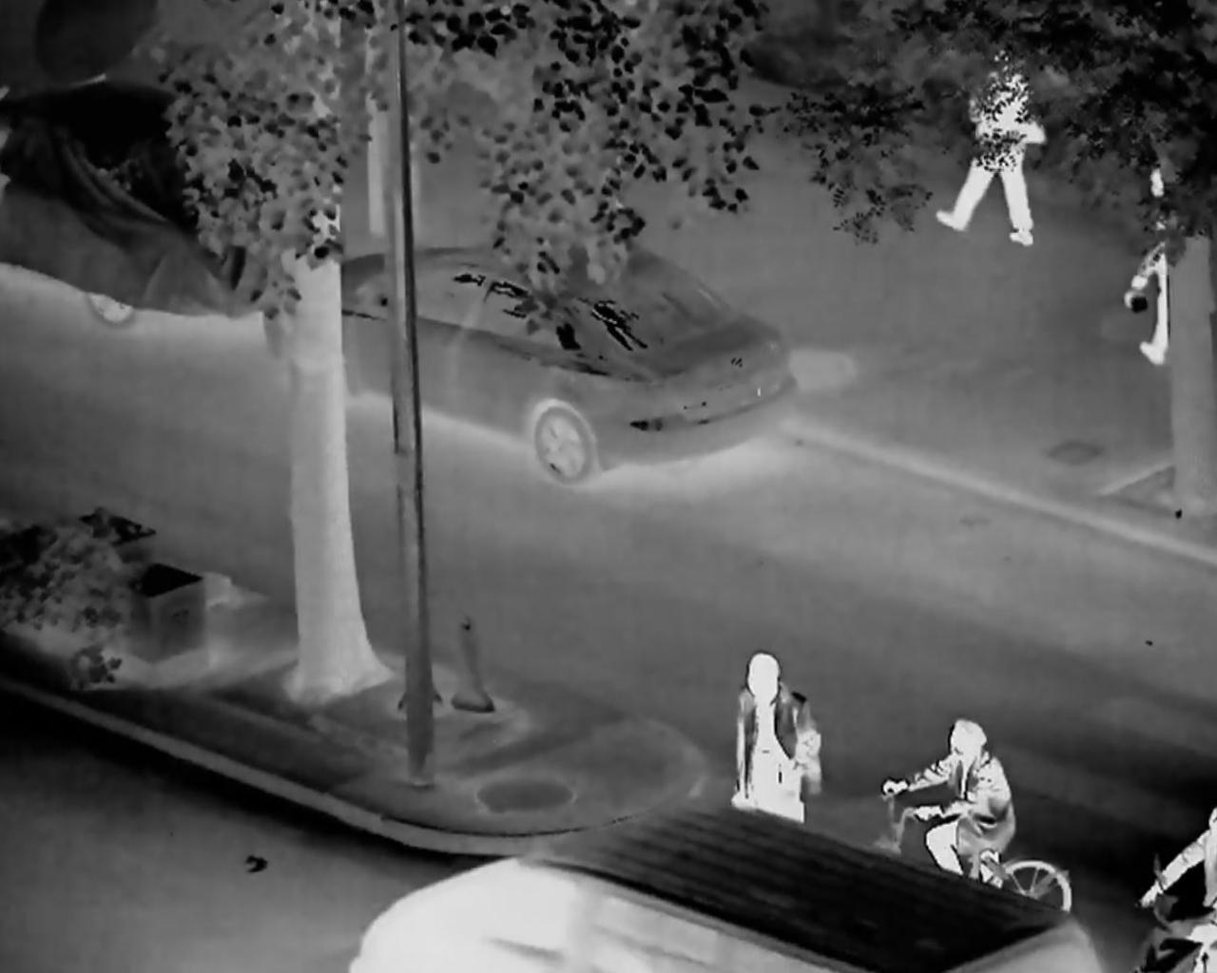person: (881, 720, 1020, 904), (932, 46, 1045, 247), (730, 652, 821, 831), (1129, 165, 1194, 372), (1143, 802, 1217, 937)
